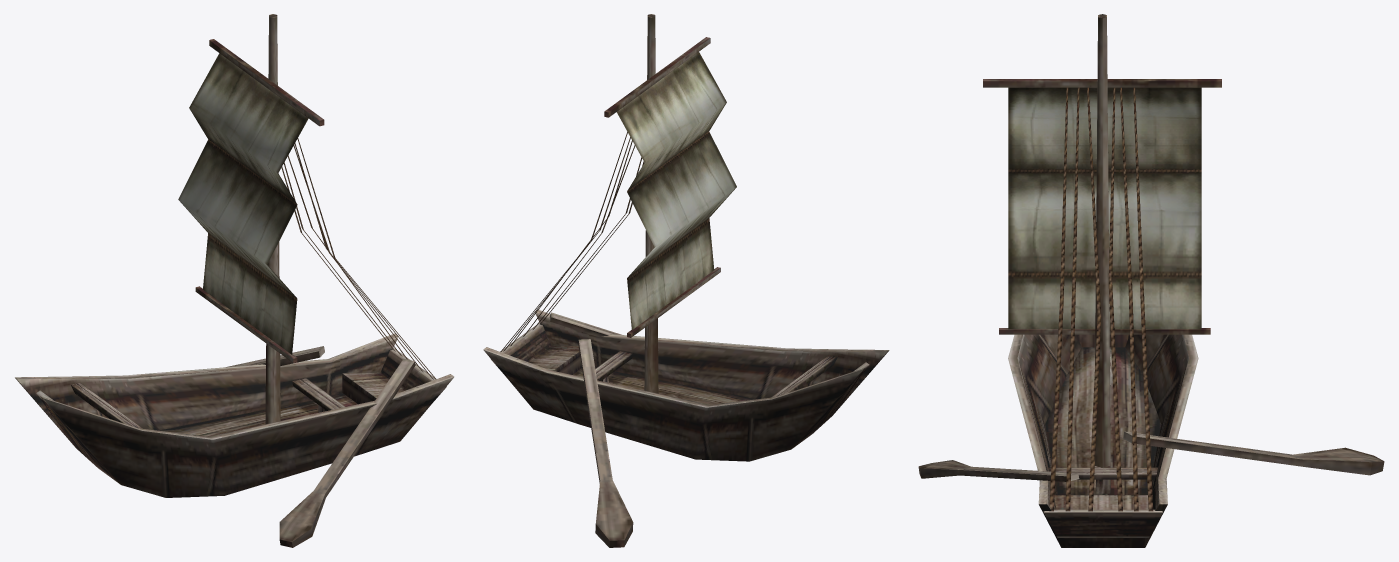
File: general_obj_boat02.fbx
3 views of the same model, side by side, from view 1: azimuth 30°, elevation 25°; view 2: azimuth 150°, elevation 25°; view 3: azimuth 270°, elevation 25° (orthographic). The views are drawn at different scales.
Visible parts, largest first — view 1: Object10; view 2: Object10; view 3: Object10.
Boxes of the visible parts, x1,y1,x2,y2 form: Object10: (15,14,454,547); Object10: (483,14,889,547); Object10: (918,14,1384,547).
Bounding box in the file's own units: 5.3 × 5.9 × 4.99.
